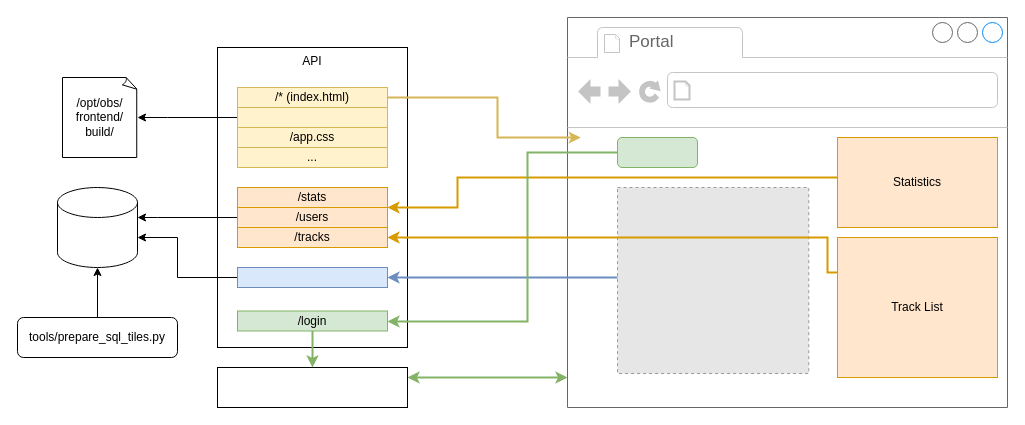
This 1025x425 diagram has some shape labels left out. Grey dashed boxes stand in for pictures. Each missing label, with the box of its shape:
/app.js: (236, 106, 388, 128)
/tiles/z/x/y.pbf: (236, 266, 388, 288)
https://portal.example.com: (696, 76, 948, 104)
Keycloak: (216, 366, 408, 408)
Login: (616, 136, 698, 168)
PostgreSQL: (56, 186, 138, 268)
